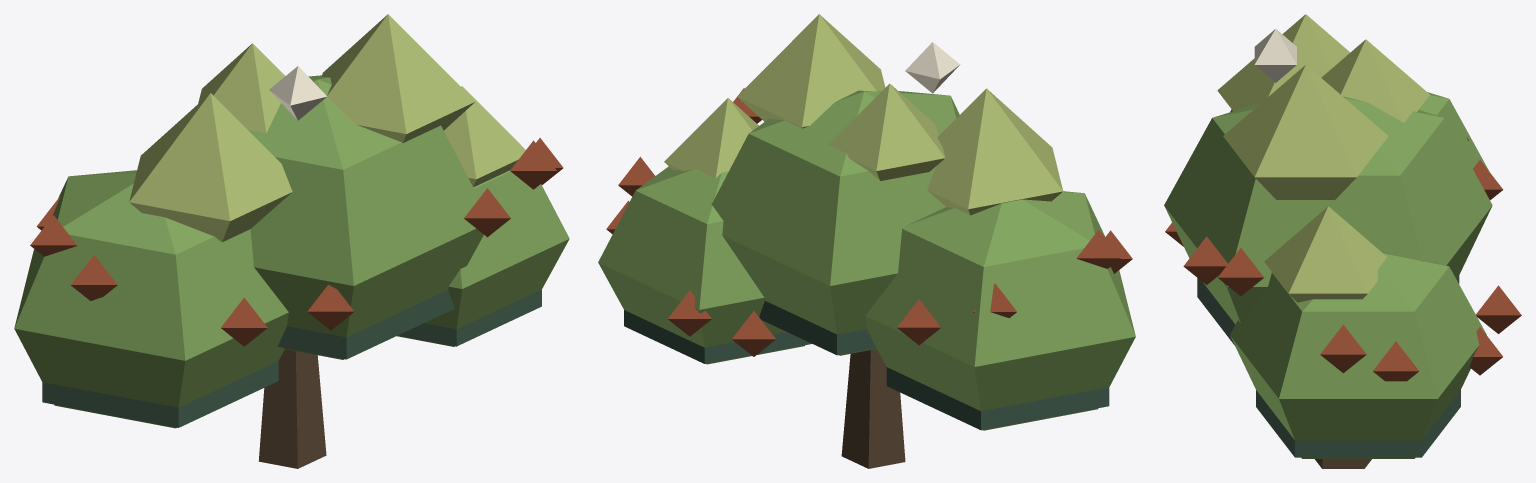
The model's file is tree-hawthorn.glb.
3 renders of one model, left to right at view 1: azimuth 30°, elevation 25°; view 2: azimuth 150°, elevation 25°; view 3: azimuth 270°, elevation 25°, orthographic. The views are drawn at different scales.
Parts seen in each view (by area): view 1: tree-hawthorn; view 2: tree-hawthorn; view 3: tree-hawthorn.
Part boxes in pixels (x1=…): tree-hawthorn: x1=14, y1=14, x2=569, y2=468; tree-hawthorn: x1=598, y1=14, x2=1135, y2=468; tree-hawthorn: x1=1164, y1=14, x2=1521, y2=468.
Size of the model in its own units: 4.09 by 3.16 by 2.38.
1 material, 1 textured.
